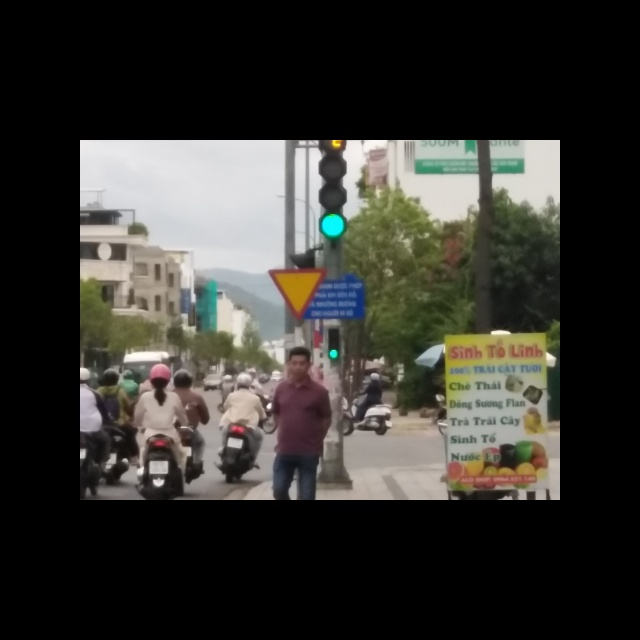Giao nhau với đường ưu tiên: (270, 268, 328, 322)
Đèn xanh: (320, 214, 348, 240)
